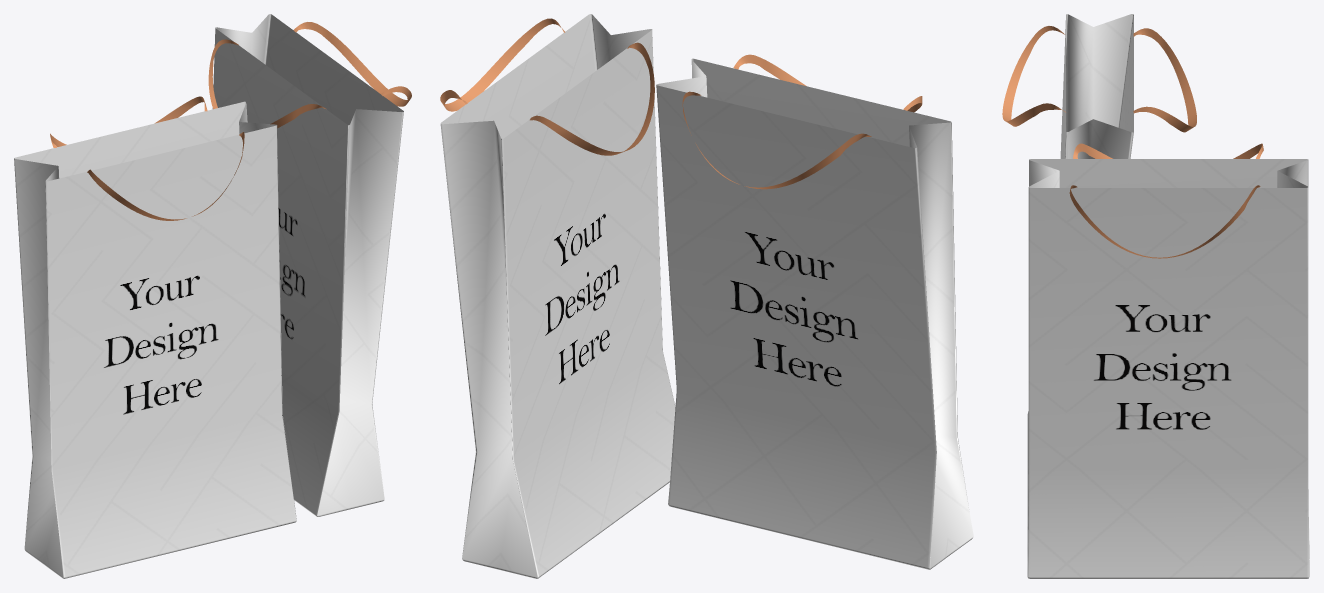
The model's file is Paper Bag A-2.glb.
3 views of the same model, side by side, from view 1: azimuth 30°, elevation 25°; view 2: azimuth 150°, elevation 25°; view 3: azimuth 270°, elevation 25° (orthographic). The views are drawn at different scales.
Parts seen in each view (by area): view 1: Object_2.003, Object_2.001, Object_2.002, Object_2.004; view 2: Object_2.003, Object_2.001, Object_2.002, Object_2.004; view 3: Object_2.001, Object_2.003, Object_2.004, Object_2.002.
Boxes of the visible parts, bbox=[...] form: Object_2.003: bbox=[14, 101, 296, 578]; Object_2.001: bbox=[212, 14, 403, 516]; Object_2.002: bbox=[208, 22, 411, 128]; Object_2.004: bbox=[50, 96, 244, 220]; Object_2.003: bbox=[656, 58, 973, 569]; Object_2.001: bbox=[440, 14, 675, 578]; Object_2.002: bbox=[440, 18, 654, 155]; Object_2.004: bbox=[682, 54, 922, 189]; Object_2.001: bbox=[1027, 159, 1309, 578]; Object_2.003: bbox=[1027, 14, 1133, 526]; Object_2.004: bbox=[1002, 26, 1196, 132]; Object_2.002: bbox=[1069, 143, 1263, 258].
Size of the model in its own units: 6.02 by 5.73 by 3.89.
2 materials, 1 textured.
